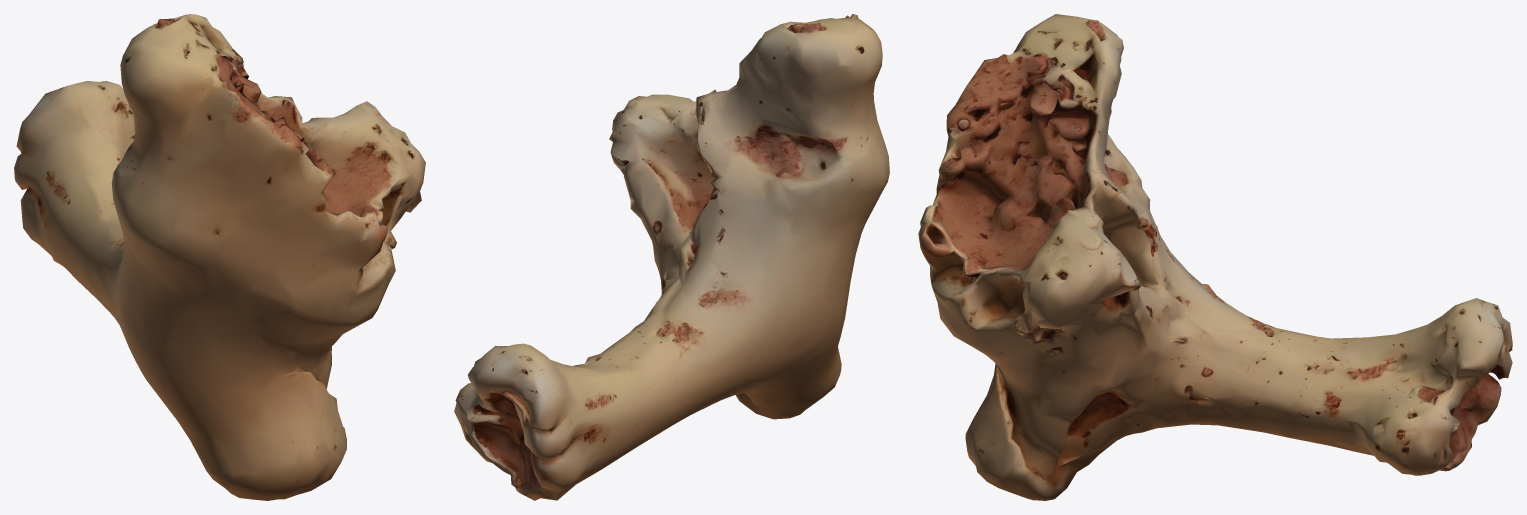
The model's file is bone_fragment.glb.
3 views of the same model, side by side, from view 1: azimuth 30°, elevation 25°; view 2: azimuth 150°, elevation 25°; view 3: azimuth 270°, elevation 25° (orthographic). The views are drawn at different scales.
Parts seen in each view (by area): view 1: tripo_node_ccb79b2d-c8aa-4b7b-ba9c-936e3cf8f6e5; view 2: tripo_node_ccb79b2d-c8aa-4b7b-ba9c-936e3cf8f6e5; view 3: tripo_node_ccb79b2d-c8aa-4b7b-ba9c-936e3cf8f6e5.
Part boxes in pixels (bbox=[...]): tripo_node_ccb79b2d-c8aa-4b7b-ba9c-936e3cf8f6e5: bbox=[14, 14, 425, 500]; tripo_node_ccb79b2d-c8aa-4b7b-ba9c-936e3cf8f6e5: bbox=[454, 14, 889, 500]; tripo_node_ccb79b2d-c8aa-4b7b-ba9c-936e3cf8f6e5: bbox=[918, 14, 1512, 500].
Size of the model in its own units: 0.5284 by 0.8176 by 1.
1 material, 1 textured.
